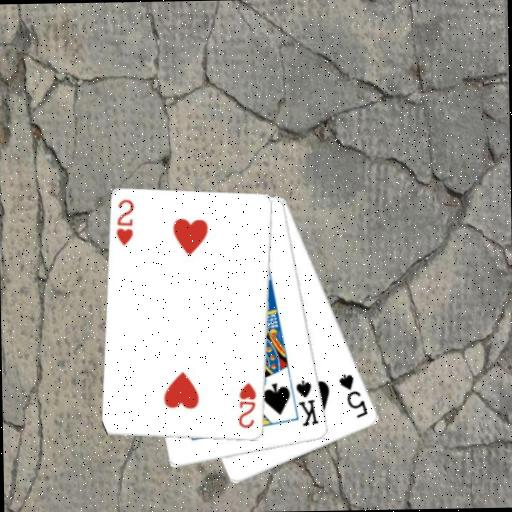2H: (235, 380, 259, 431), (113, 197, 137, 248)
5S: (336, 371, 370, 421)
KS: (293, 377, 321, 428)
